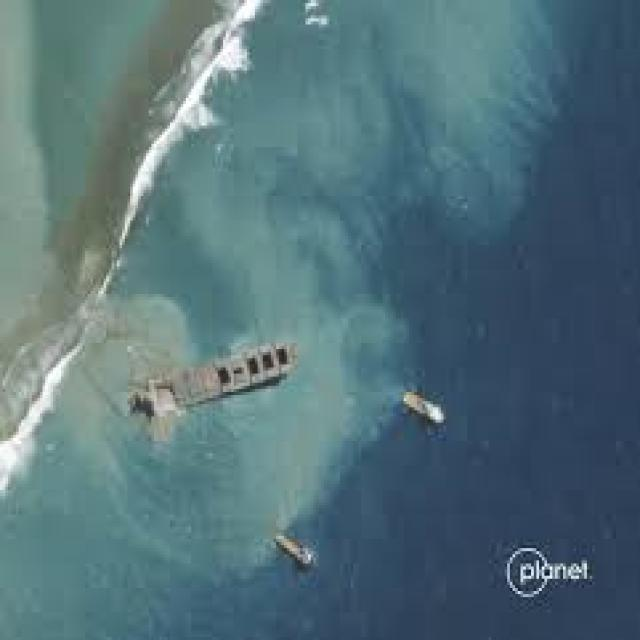oil spill: (0, 0, 241, 373)
